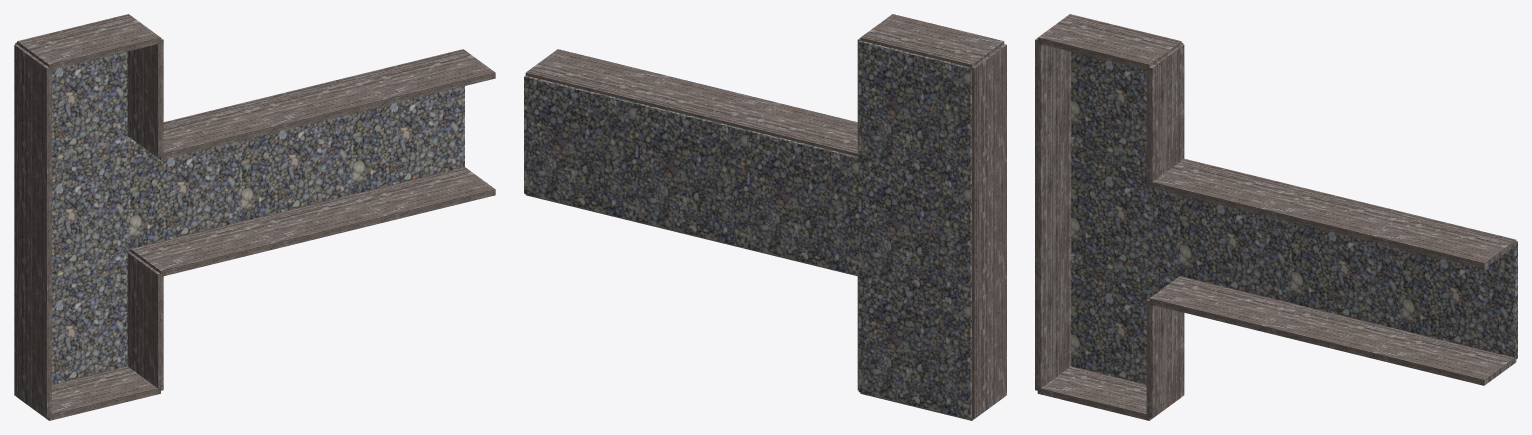
The model's file is room5.gltf.
3 views of the same model, side by side, from view 1: azimuth 30°, elevation 25°; view 2: azimuth 150°, elevation 25°; view 3: azimuth 330°, elevation 25° (orthographic).
Visible parts, largest first — view 1: Cube.140, Cube.141, Cube.139, Cube.138, Cube.143, Cube.142, Cube.055, Cube.058, Cube.059, Cube.053, Cube.057, Cube.041 (+7 smaller); view 2: Cube.142, Cube.139, Cube.143, Cube.141, Cube.138, Cube.140, Cube.055, Cube.059, Cube.058, Cube.053, Cube.041, Cube.047 (+1 smaller); view 3: Cube.141, Cube.138, Cube.139, Cube.143, Cube.140, Cube.142, Cube.056, Cube.041, Cube.053, Cube.058, Cube.042, Cube.047 (+7 smaller).
Boxes of the visible parts, box(x1,y1,x2,y2) form: Cube.140: box(130, 138, 241, 248); Cube.141: box(52, 135, 130, 270); Cube.139: box(242, 113, 353, 221); Cube.138: box(353, 86, 464, 194); Cube.143: box(52, 252, 127, 384); Cube.142: box(15, 42, 127, 153); Cube.055: box(14, 44, 51, 184); Cube.058: box(14, 162, 51, 301); Cube.059: box(14, 278, 51, 418); Cube.053: box(17, 14, 160, 70); Cube.057: box(127, 251, 163, 391); Cube.041: box(352, 49, 495, 105); Cube.142: box(858, 40, 971, 185); Cube.139: box(635, 103, 748, 247); Cube.143: box(858, 275, 971, 419); Cube.141: box(858, 158, 971, 302); Cube.138: box(524, 75, 636, 220); Cube.140: box(747, 130, 858, 274); Cube.055: box(972, 44, 1006, 184); Cube.059: box(972, 278, 1006, 418); Cube.058: box(972, 162, 1006, 301); Cube.053: box(860, 14, 1004, 67); Cube.041: box(525, 49, 668, 102); Cube.047: box(637, 76, 780, 129); Cube.141: box(1071, 135, 1179, 277); Cube.138: box(1403, 241, 1517, 359); Cube.139: box(1291, 222, 1403, 330); Cube.143: box(1071, 252, 1176, 384); Cube.140: box(1180, 195, 1291, 302); Cube.142: box(1071, 42, 1183, 153); Cube.056: box(1146, 44, 1184, 184); Cube.041: box(1372, 212, 1516, 268); Cube.053: box(1037, 14, 1181, 70); Cube.058: box(1035, 136, 1071, 274); Cube.042: box(1372, 330, 1516, 385); Cube.047: box(1261, 185, 1404, 241).
Size of the model in its own units: 16.1 by 12.2 by 2.1.
2 materials, 2 textured.
